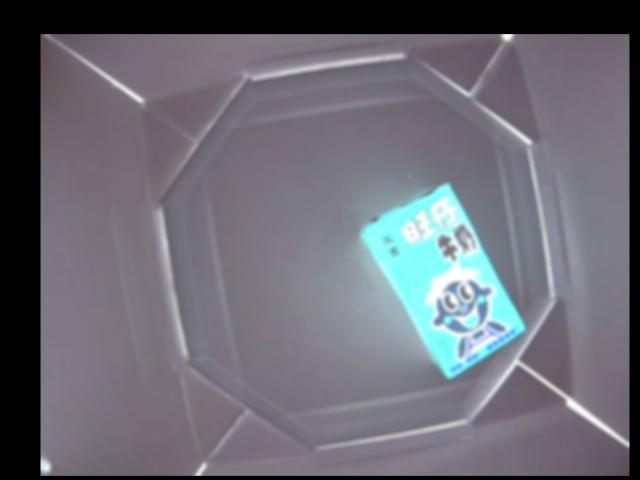Bottle: (362, 183, 528, 379)
